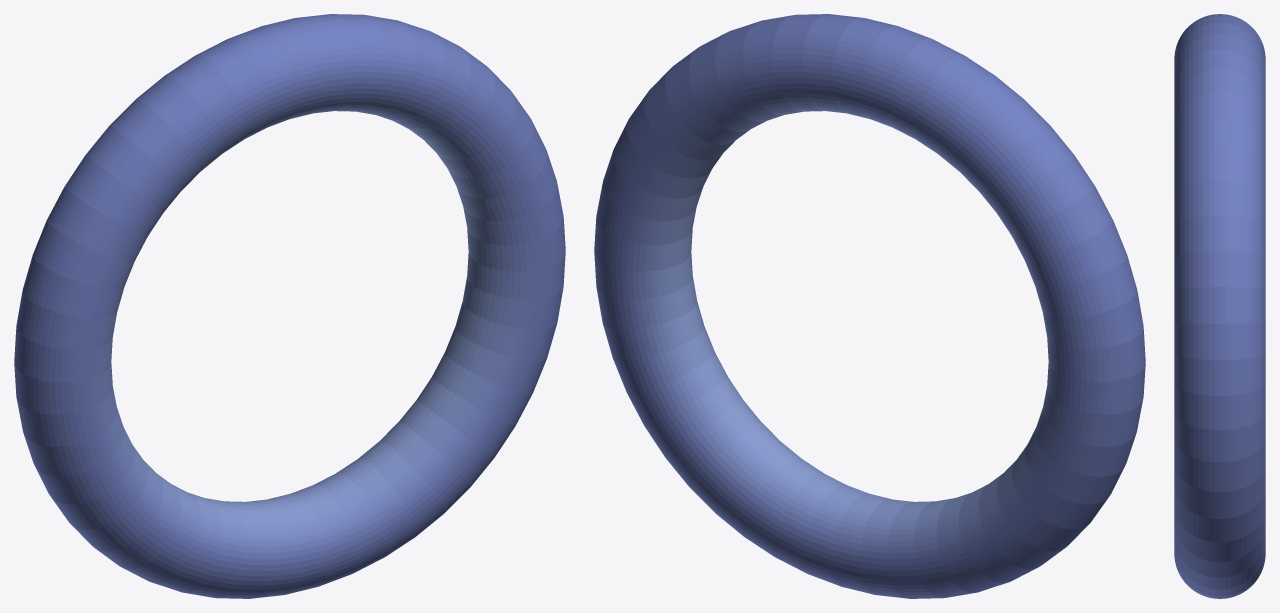
3 renders of one model, left to right at view 1: azimuth 30°, elevation 25°; view 2: azimuth 150°, elevation 25°; view 3: azimuth 270°, elevation 25°, orthographic. The views are drawn at different scales.
Visible parts, largest first — view 1: world; view 2: world; view 3: world.
Part boxes in pixels (x1=…): world: x1=14, y1=14, x2=565, y2=598; world: x1=594, y1=14, x2=1145, y2=598; world: x1=1174, y1=14, x2=1265, y2=598.
Size of the model in its own units: 21.33 by 21.29 by 3.33.
